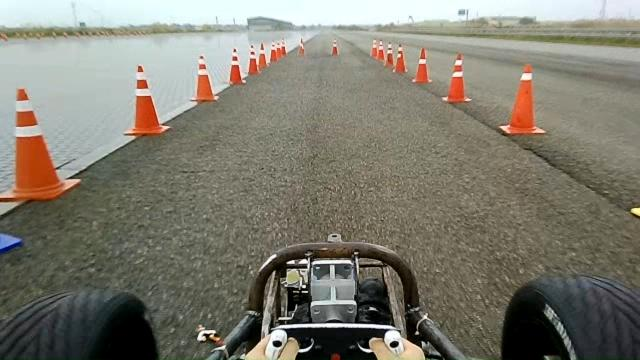red cone: (0, 87, 81, 202), (123, 64, 171, 136), (499, 63, 546, 135), (442, 52, 472, 103), (190, 54, 219, 102), (412, 46, 432, 84), (228, 47, 246, 85), (392, 43, 408, 74), (247, 44, 260, 75), (258, 42, 268, 68), (384, 42, 394, 67)
